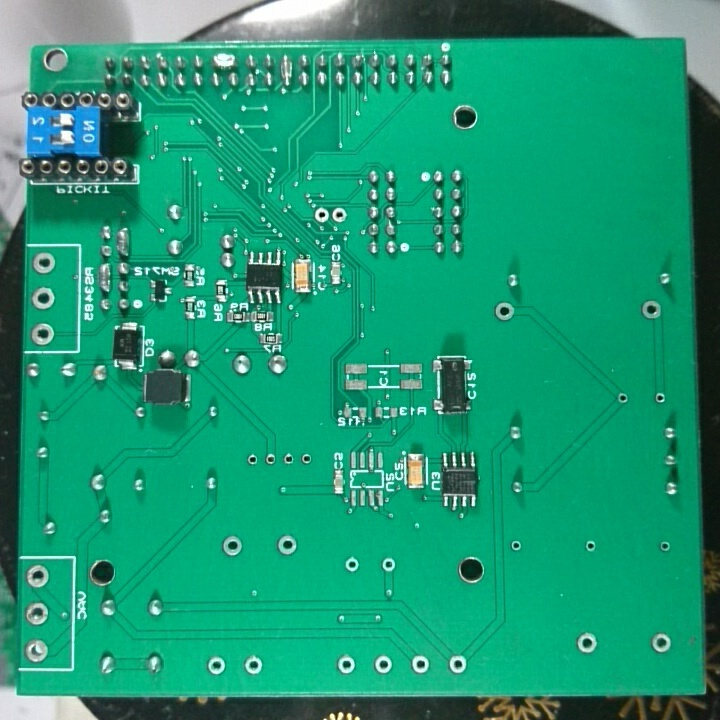F: (22, 598, 51, 628), (22, 562, 52, 591), (30, 284, 59, 312), (29, 319, 58, 347), (574, 629, 600, 658), (648, 629, 674, 657), (219, 532, 245, 560), (22, 638, 51, 663), (31, 249, 57, 275), (274, 532, 299, 558), (205, 652, 228, 679), (445, 652, 469, 677), (241, 653, 266, 677), (639, 297, 663, 321), (408, 652, 432, 676), (334, 652, 358, 676), (371, 652, 394, 676), (494, 300, 515, 324), (378, 554, 399, 577), (312, 203, 331, 227), (342, 555, 362, 575), (279, 449, 297, 471), (508, 535, 525, 558), (260, 449, 278, 469), (297, 449, 314, 470), (331, 205, 347, 227), (614, 389, 631, 409), (651, 388, 669, 406), (657, 538, 673, 556), (245, 451, 261, 469), (583, 536, 598, 555)
P: (210, 49, 239, 72), (115, 224, 134, 258), (277, 50, 293, 89), (96, 260, 113, 295)
